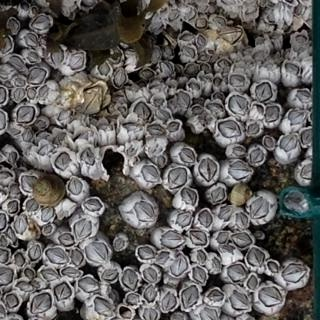Barnacle: (76, 86, 104, 117), (213, 16, 243, 42), (134, 198, 156, 221), (86, 242, 109, 263), (198, 157, 218, 181), (31, 292, 53, 313), (258, 286, 282, 305), (161, 230, 185, 249), (283, 264, 308, 282), (228, 95, 248, 117), (229, 160, 252, 179), (218, 119, 242, 136), (230, 290, 249, 311), (181, 286, 199, 308), (169, 167, 187, 189), (94, 296, 113, 316), (53, 281, 73, 300), (254, 82, 273, 102), (227, 264, 248, 282), (251, 197, 269, 218), (181, 186, 199, 207), (75, 218, 92, 240), (47, 248, 70, 264), (247, 247, 265, 267), (54, 151, 72, 171), (170, 254, 187, 275), (17, 105, 36, 123), (20, 175, 38, 193), (29, 67, 47, 85), (134, 101, 151, 120), (122, 269, 138, 289), (141, 165, 161, 181), (7, 54, 27, 70), (78, 277, 99, 292), (281, 133, 298, 151), (233, 232, 253, 247), (234, 210, 249, 230), (162, 290, 176, 311), (0, 265, 14, 286), (69, 52, 86, 69), (264, 105, 280, 123), (144, 283, 159, 302), (189, 230, 208, 245), (288, 109, 308, 123), (114, 67, 128, 87), (198, 210, 213, 228), (179, 148, 197, 163), (32, 15, 51, 29), (177, 211, 193, 227), (176, 90, 191, 107), (199, 307, 220, 319), (14, 216, 28, 234), (82, 147, 96, 165), (145, 123, 166, 135), (51, 47, 65, 65), (40, 206, 55, 222), (22, 32, 38, 47), (138, 246, 155, 260), (69, 177, 83, 194), (218, 205, 233, 220), (285, 62, 301, 76), (109, 46, 123, 62), (208, 289, 225, 302), (193, 266, 206, 283), (41, 268, 59, 280), (101, 267, 119, 279), (84, 198, 102, 210), (0, 35, 12, 53), (156, 250, 170, 265), (231, 73, 245, 88), (71, 249, 84, 265), (251, 147, 264, 163), (38, 144, 54, 157), (29, 243, 41, 260), (6, 227, 18, 244), (161, 60, 175, 74), (6, 293, 19, 308), (151, 19, 164, 34), (301, 162, 313, 178), (302, 128, 314, 144), (251, 100, 263, 116), (99, 59, 111, 75), (144, 267, 157, 281), (60, 233, 74, 246), (27, 198, 41, 211), (297, 89, 311, 102), (27, 51, 42, 63), (248, 274, 259, 290), (155, 109, 171, 120), (126, 293, 139, 306), (144, 307, 158, 319), (59, 109, 73, 121), (8, 18, 20, 32), (22, 127, 33, 142), (185, 7, 196, 22), (63, 267, 81, 276), (98, 121, 114, 131), (207, 102, 223, 112), (248, 123, 261, 135), (13, 88, 25, 101), (183, 45, 196, 57), (217, 230, 228, 244), (142, 69, 156, 80), (0, 247, 9, 264), (124, 122, 141, 131), (151, 46, 160, 63), (149, 142, 161, 154), (54, 132, 66, 144), (9, 200, 20, 213), (9, 181, 20, 194), (186, 63, 199, 74), (266, 9, 277, 22), (170, 8, 181, 21), (39, 86, 49, 100), (282, 20, 292, 34), (80, 0, 95, 9), (24, 267, 35, 279), (0, 170, 12, 181), (9, 151, 20, 163), (233, 146, 245, 157), (169, 120, 181, 131), (36, 119, 48, 130), (196, 17, 208, 28), (164, 43, 174, 56), (15, 251, 24, 265), (238, 56, 256, 63), (268, 260, 278, 272), (116, 237, 126, 249), (154, 97, 166, 107), (235, 63, 252, 70), (18, 281, 31, 290), (212, 257, 221, 270), (197, 250, 206, 263), (191, 105, 204, 114), (295, 34, 308, 43), (0, 68, 10, 79), (27, 88, 36, 100), (219, 59, 231, 68), (181, 33, 194, 41), (43, 225, 53, 235), (21, 1, 31, 11), (149, 84, 163, 91), (198, 54, 210, 62), (246, 6, 258, 14), (221, 245, 234, 252), (127, 145, 137, 154), (213, 76, 223, 85), (201, 63, 211, 72), (198, 35, 207, 45), (189, 81, 200, 89), (15, 78, 26, 86), (200, 74, 211, 82), (255, 50, 266, 58), (131, 85, 143, 92), (265, 137, 274, 146), (157, 156, 165, 166), (295, 4, 303, 14), (25, 145, 31, 156), (243, 0, 259, 4), (0, 189, 7, 198), (261, 0, 269, 7), (174, 314, 183, 319)
